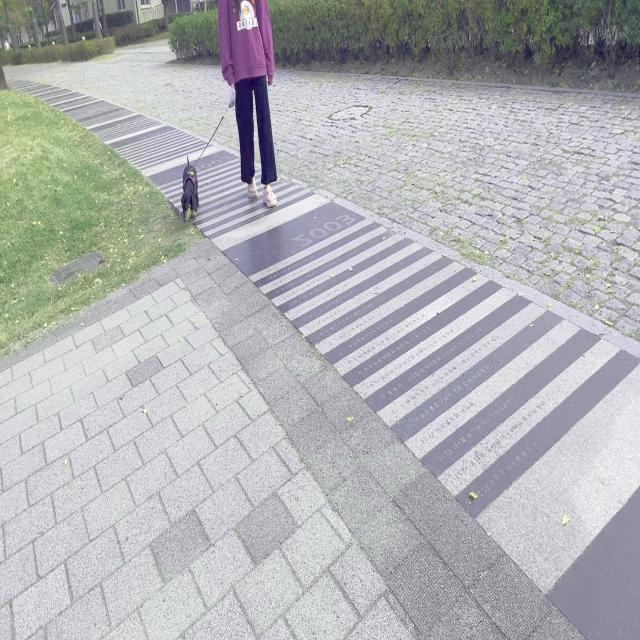Leashed_Dog: (181, 68, 250, 224)
